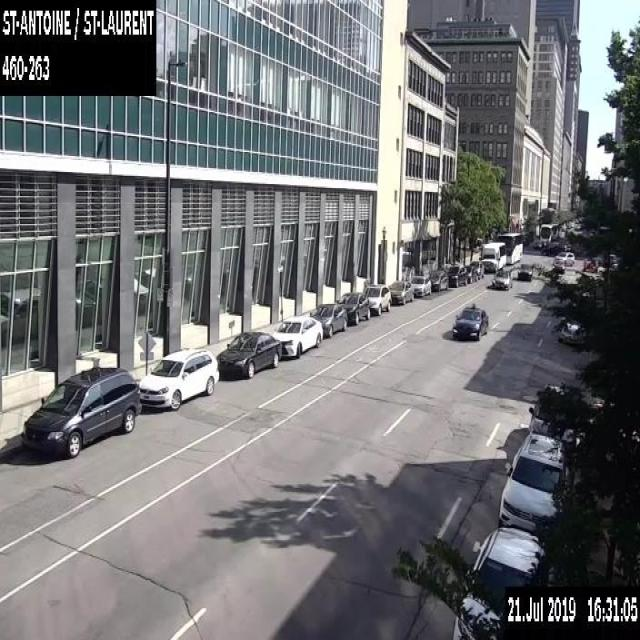bus: (478, 240, 506, 273), (496, 232, 522, 264)
construction: (134, 329, 156, 363), (582, 257, 596, 272)
vehicle: (20, 365, 142, 457), (452, 526, 544, 639), (498, 432, 566, 535), (138, 348, 219, 410), (527, 382, 576, 446), (215, 331, 281, 377), (272, 315, 322, 357), (452, 302, 488, 340), (309, 303, 347, 337), (336, 291, 370, 323), (363, 283, 391, 314), (558, 316, 584, 346), (387, 280, 413, 304), (446, 264, 467, 286), (428, 269, 448, 292), (491, 269, 512, 289), (410, 275, 430, 296), (552, 250, 574, 265), (468, 260, 484, 278), (517, 262, 533, 279), (463, 264, 478, 282), (552, 254, 564, 272)
